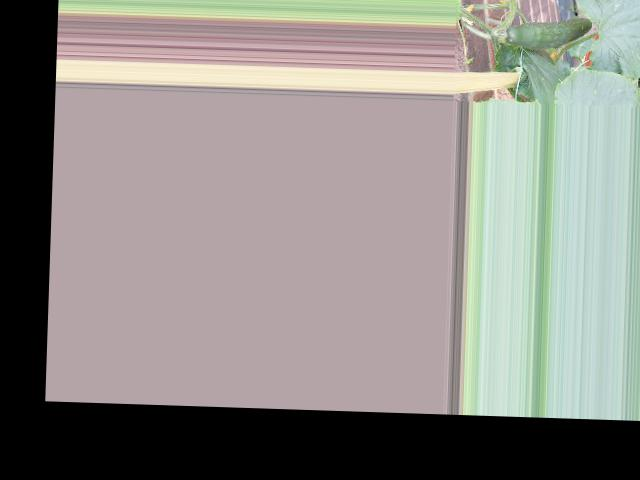cucumber: (504, 14, 592, 50)
